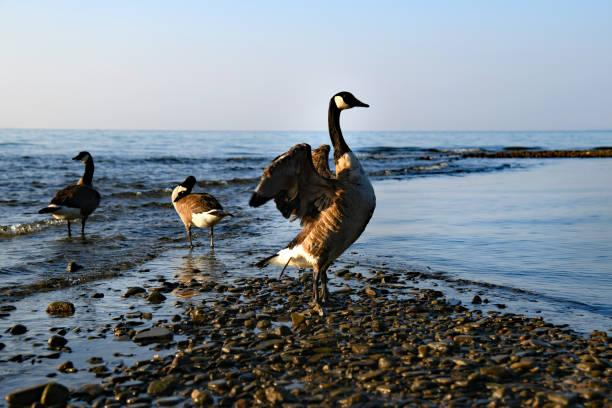Canadian-Goose: (248, 89, 379, 308), (44, 151, 102, 235), (168, 174, 226, 256)
